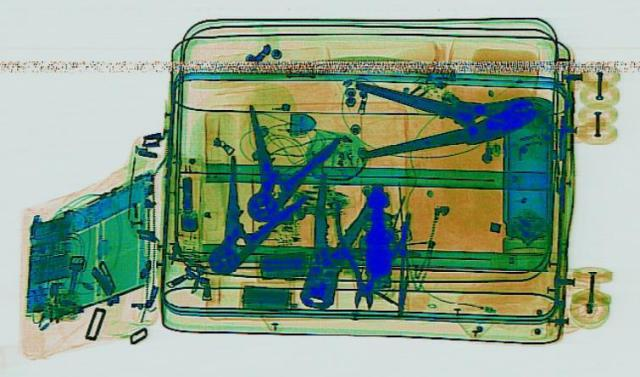Pliers: (160, 152, 328, 281), (332, 67, 546, 158), (205, 104, 348, 225), (278, 172, 386, 309), (322, 200, 412, 309)
